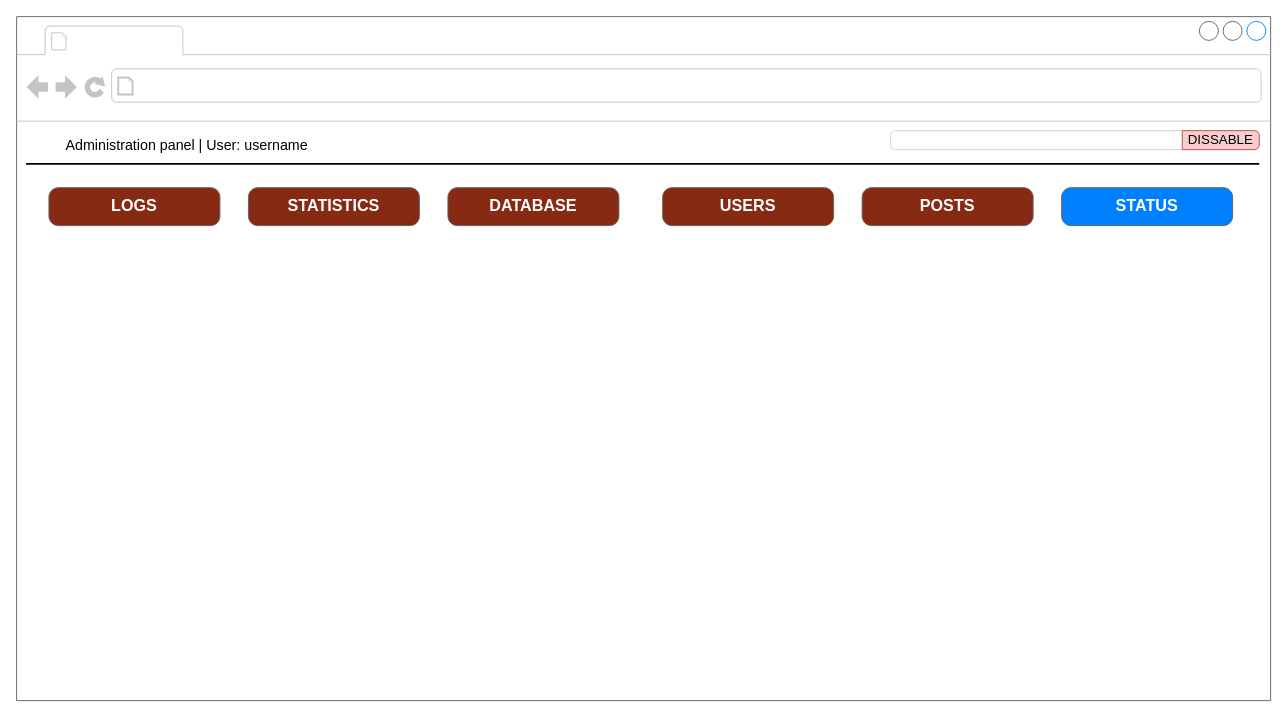
The diagram is 1287 pixels wide and 717 high, and some of its shapes have lost their labels. The shapes that lost their labels are listed below. From the top down, each one's centre as x and y in pixels, then its label:
[125,40]: Page 1
[258,85]: https://www.hostname/admin/key/panel
[1074,140]: Token
